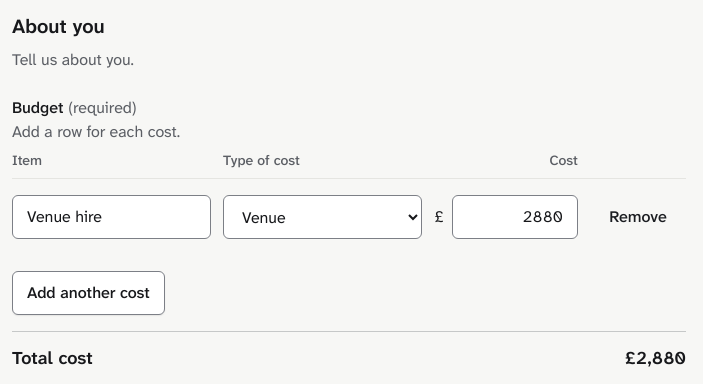
Test case: TableQuestion › rows › goes back to nothing when the last row goes, and tells the app there is no answer
Click the button named "Remove cost 1": click(638, 217) [590, 195, 686, 239]
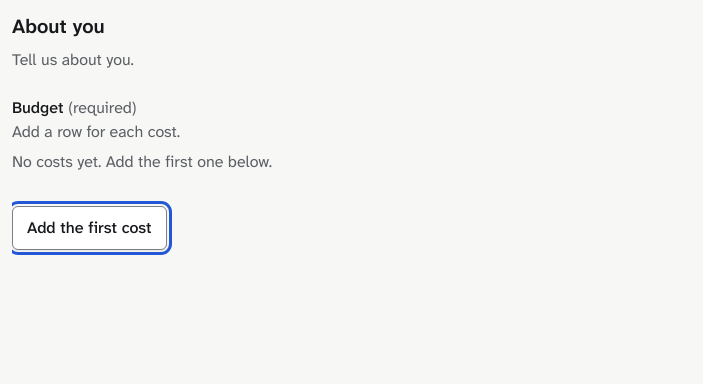
Result: the text "No costs yet. Add the first one below." is shown at [12, 151, 272, 172]
